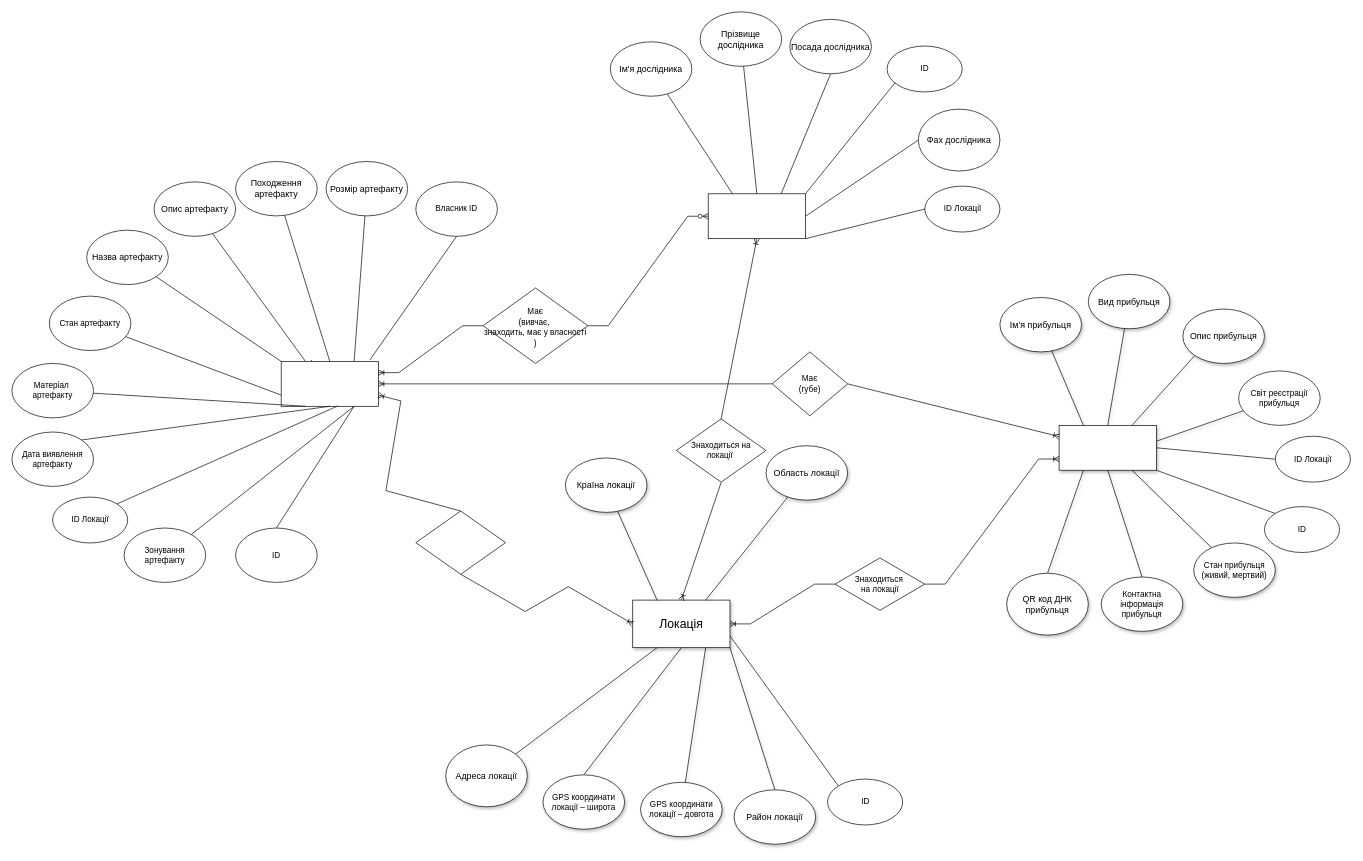
Image size: 1363x861. Some labels were removed from this diagram. The shapes that lost their labels are listed below. From the top down, each one's centre as x and y in pixels, then its label:
the point at 756,216: Дослідник
the point at 329,383: артефакт
the point at 1108,448: Прибулець
the point at 460,542: Знаходиться
